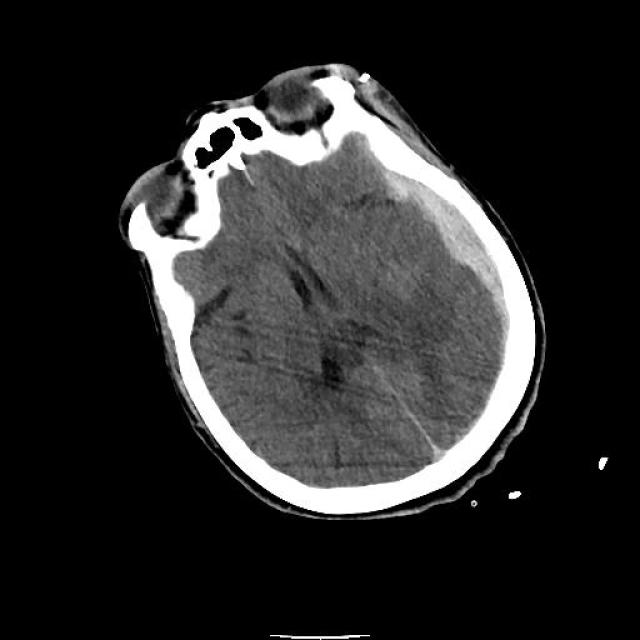Subdural: (370, 150, 562, 362)
